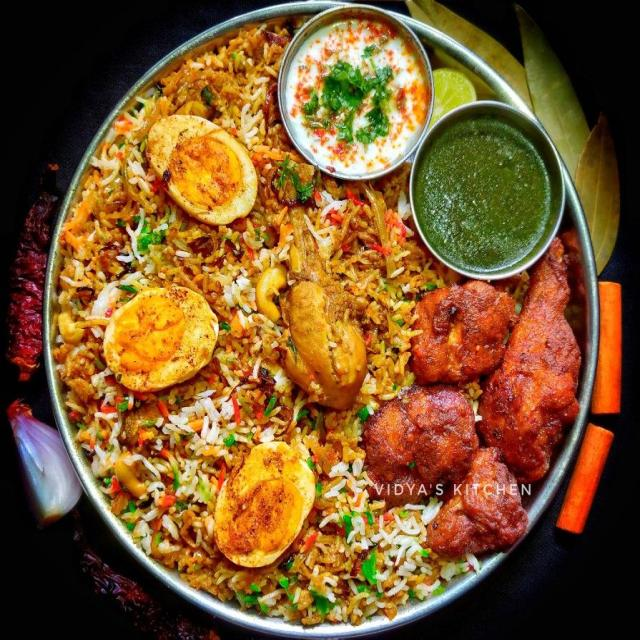non veg meals: (39, 0, 602, 640)
